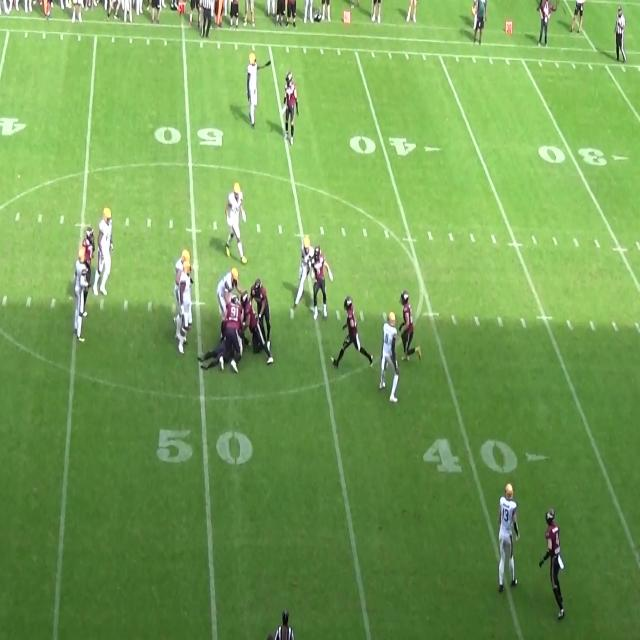4: (418, 433, 464, 476)
5: (156, 424, 195, 469)
american-football-players: (538, 509, 567, 619), (332, 296, 373, 373), (496, 483, 521, 593), (239, 288, 272, 364), (220, 294, 247, 374), (225, 180, 249, 262), (309, 243, 334, 320), (247, 51, 272, 128), (94, 208, 113, 297), (379, 315, 397, 406), (294, 236, 313, 320), (250, 278, 272, 348), (176, 259, 192, 355), (73, 248, 88, 343), (282, 69, 300, 147), (398, 294, 415, 362), (216, 266, 242, 310), (176, 250, 190, 324), (84, 228, 95, 319)
